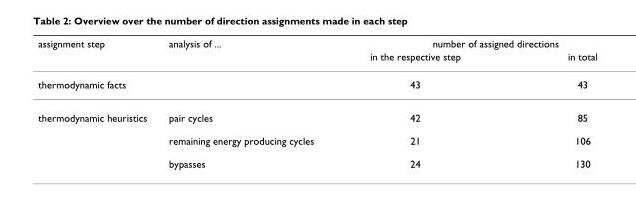table: (37, 37, 596, 169)
table column: (157, 37, 341, 169), (341, 37, 513, 169), (37, 37, 157, 169), (513, 37, 596, 169)
table column header: (37, 37, 596, 69)
table row: (37, 69, 596, 100), (37, 100, 596, 128), (37, 128, 596, 151), (37, 49, 596, 69), (37, 151, 596, 169), (37, 37, 596, 49)
table spanning cell: (37, 100, 157, 169), (157, 37, 341, 69), (37, 37, 157, 69), (341, 37, 596, 49)
